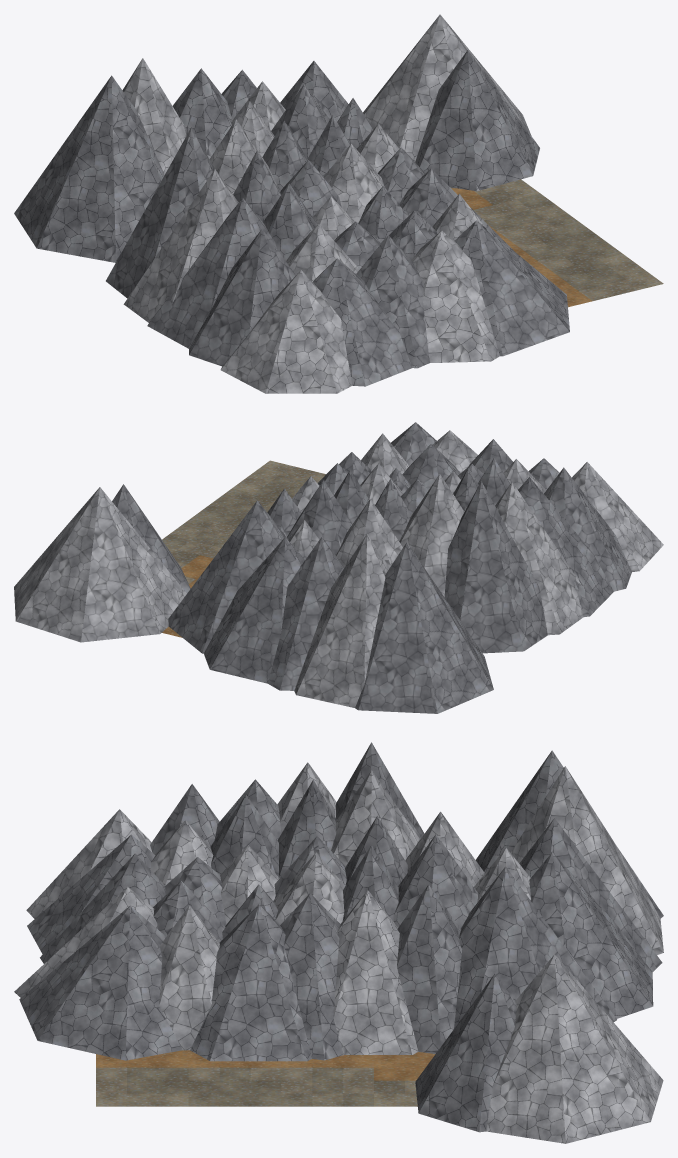
Rendered from chunk_9_19.glb.
3 renders of one model, top to bottom at view 1: azimuth 30°, elevation 25°; view 2: azimuth 150°, elevation 25°; view 3: azimuth 270°, elevation 25°, orthographic. The views are drawn at different scales.
Parts seen in each view (by area): view 1: chunk_9_19; view 2: chunk_9_19; view 3: chunk_9_19.
Part boxes in pixels (x1,y1,x2,y2): chunk_9_19: (14, 14, 663, 393); chunk_9_19: (14, 422, 663, 713); chunk_9_19: (14, 742, 663, 1143).
Size of the model in its own units: 21.12 by 6.15 by 21.03.
5 materials, 5 textured.
